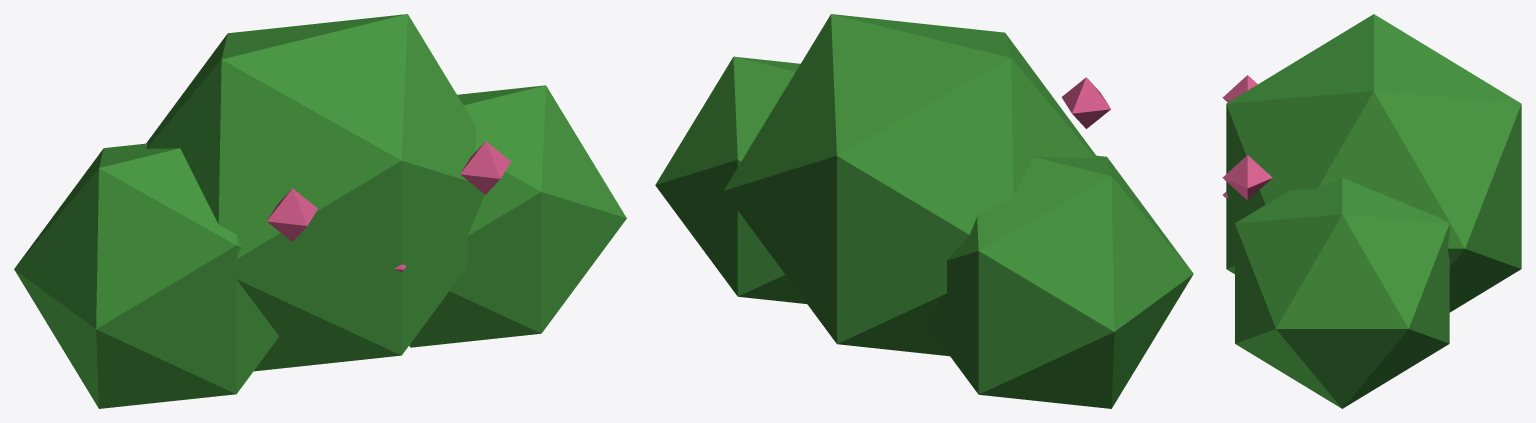
The model's file is biome-clover-bush.glb.
3 renders of one model, left to right at view 1: azimuth 30°, elevation 25°; view 2: azimuth 150°, elevation 25°; view 3: azimuth 270°, elevation 25°, orthographic. The views are drawn at different scales.
Size of the model in its own units: 1.57 by 0.9752 by 0.9478.
